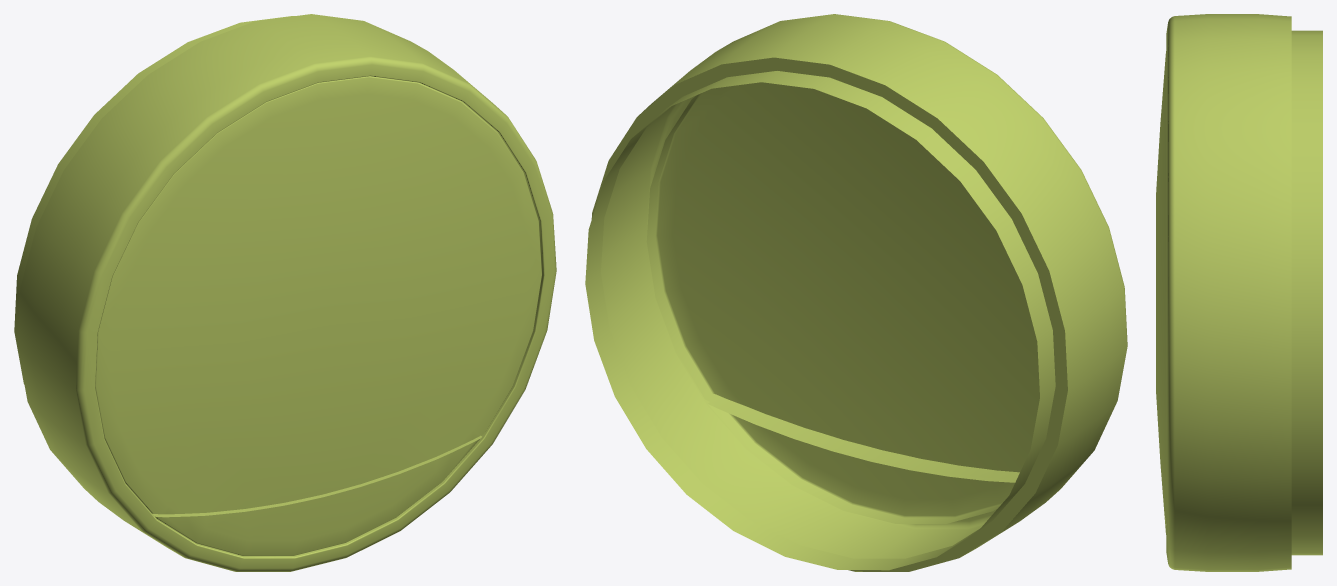
Rendered from Nest.fbx.
3 renders of one model, left to right at view 1: azimuth 30°, elevation 25°; view 2: azimuth 150°, elevation 25°; view 3: azimuth 270°, elevation 25°, orthographic.
Visible parts, largest first — view 1: mesh_nest; view 2: mesh_nest; view 3: mesh_nest.
Boxes of the visible parts, bbox=[...] form: mesh_nest: bbox=[14, 14, 556, 571]; mesh_nest: bbox=[585, 14, 1127, 571]; mesh_nest: bbox=[1156, 14, 1322, 571].
Size of the model in its own units: 9.69 by 9.67 by 2.9.
